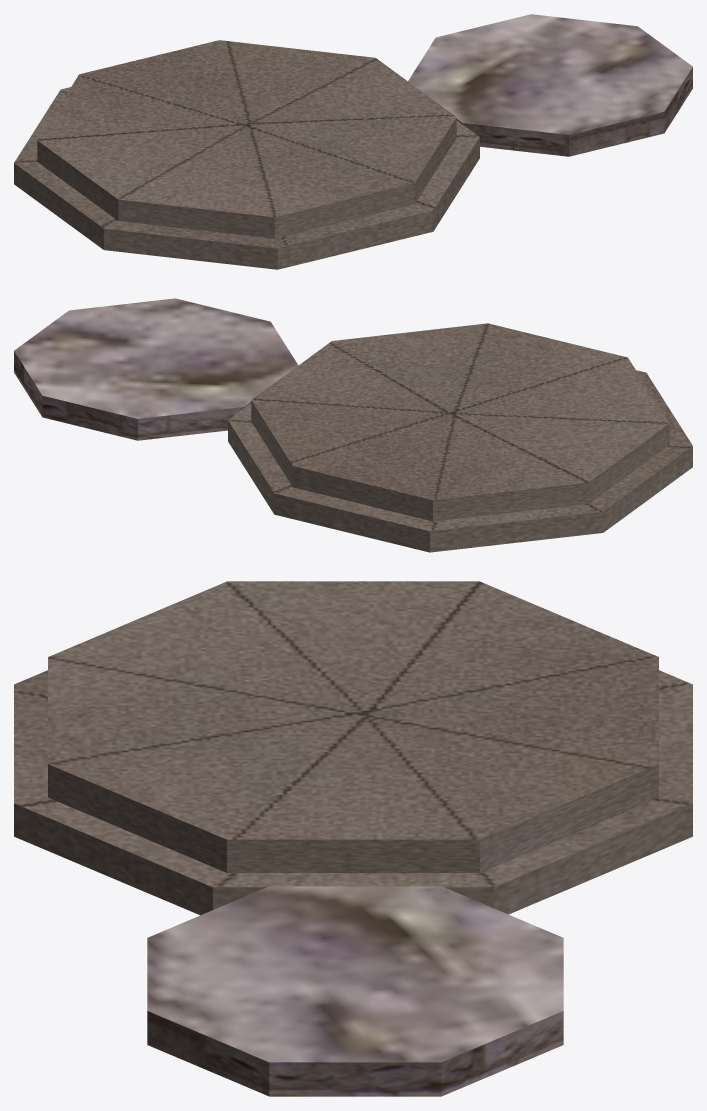
Rendered from ResearchFacility_stage0.fbx.
The picture shows the model from 3 angles, top to bottom: view 1: azimuth 30°, elevation 25°; view 2: azimuth 150°, elevation 25°; view 3: azimuth 270°, elevation 25°; orthographic projection. The views are drawn at different scales.
Visible parts, largest first — view 1: polySurface88; view 2: polySurface88; view 3: polySurface88.
Boxes of the visible parts, x1,y1,x2,y2 form: polySurface88: (14, 14, 692, 269); polySurface88: (14, 298, 692, 552); polySurface88: (14, 581, 692, 1096).
Bounding box in the file's own units: 85.84 × 5.75 × 53.17.
Materials: 2 (2 with a texture image).
